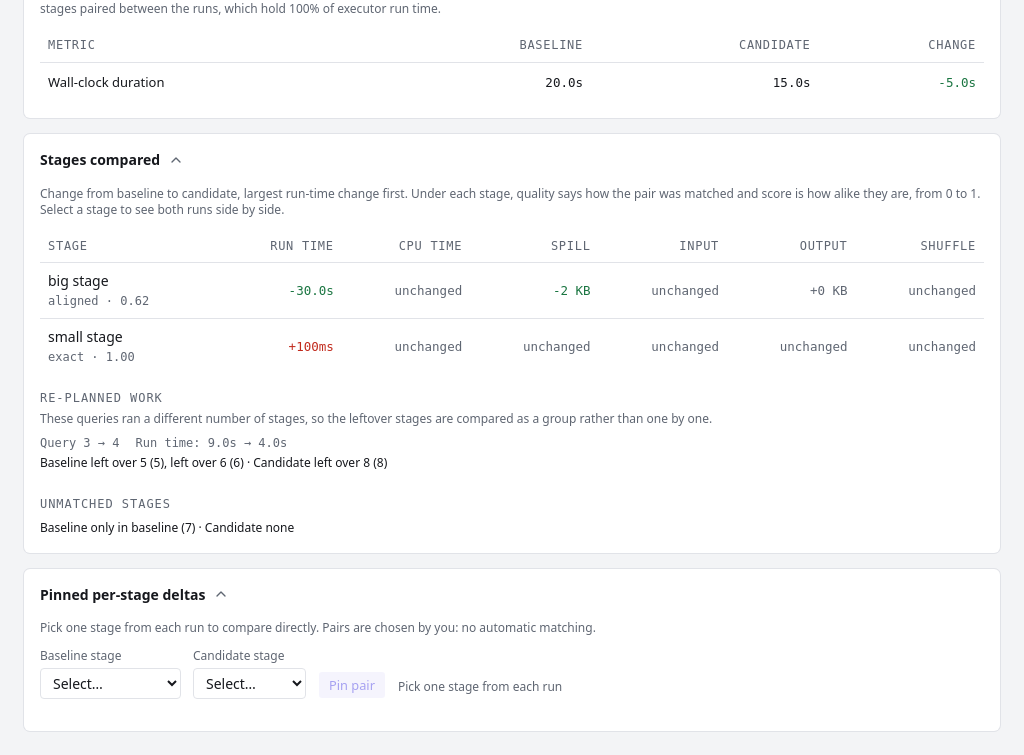
Test: StageComparisonTable › lists re-planned groups and unmatched stages and opens them in the same dialog
(page scrolled)
Expected: the element with test id "replanned-stages" shows "Query 3 → 4", [40,391,712,471]
Expected: the element with test id "replanned-stages" shows "Run time: 9.0s → 4.0s", [40,391,712,471]
Click the button "Baseline left over 5 (5), left over 6 (6) · Candidate left over 8 (8)".
click(214, 463)  # box [40,455,387,471]
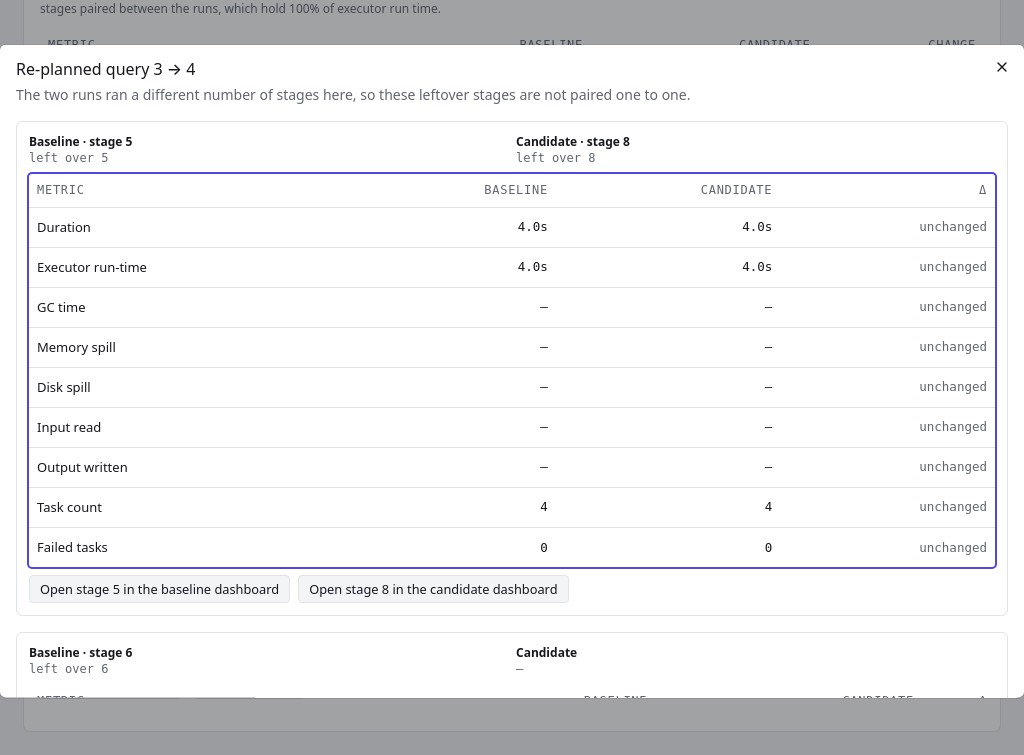
Result: the text "Baseline · stage 6" is shown at [29,644,132,661]
Result: the text "Candidate · stage 8" is shown at [516,133,630,150]
Press Escape
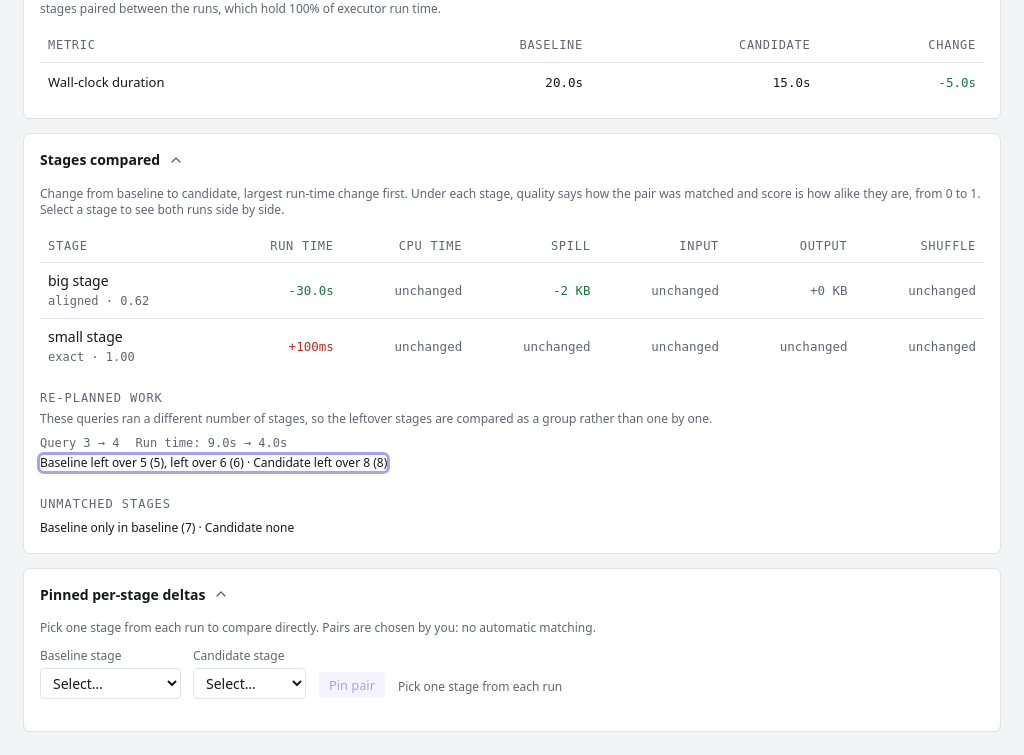
Click the button "Baseline only in baseline (7) · Candidate none".
click(167, 528)  # box [40,520,294,536]
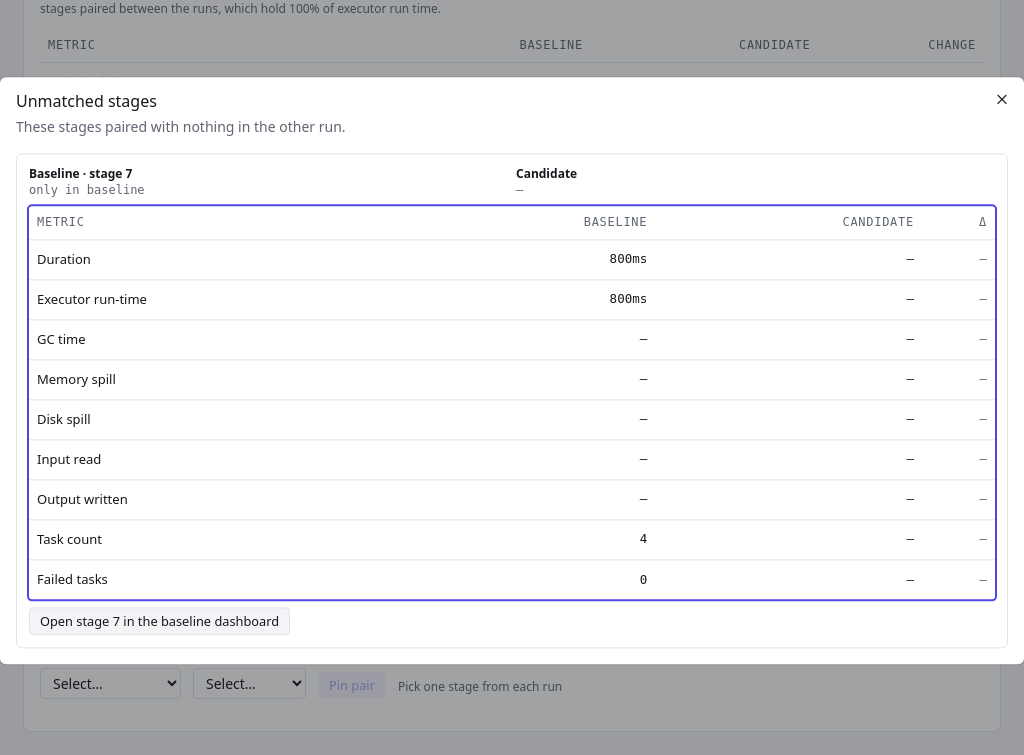
Result: the text "Baseline · stage 7" is shown at [29,165,132,182]
